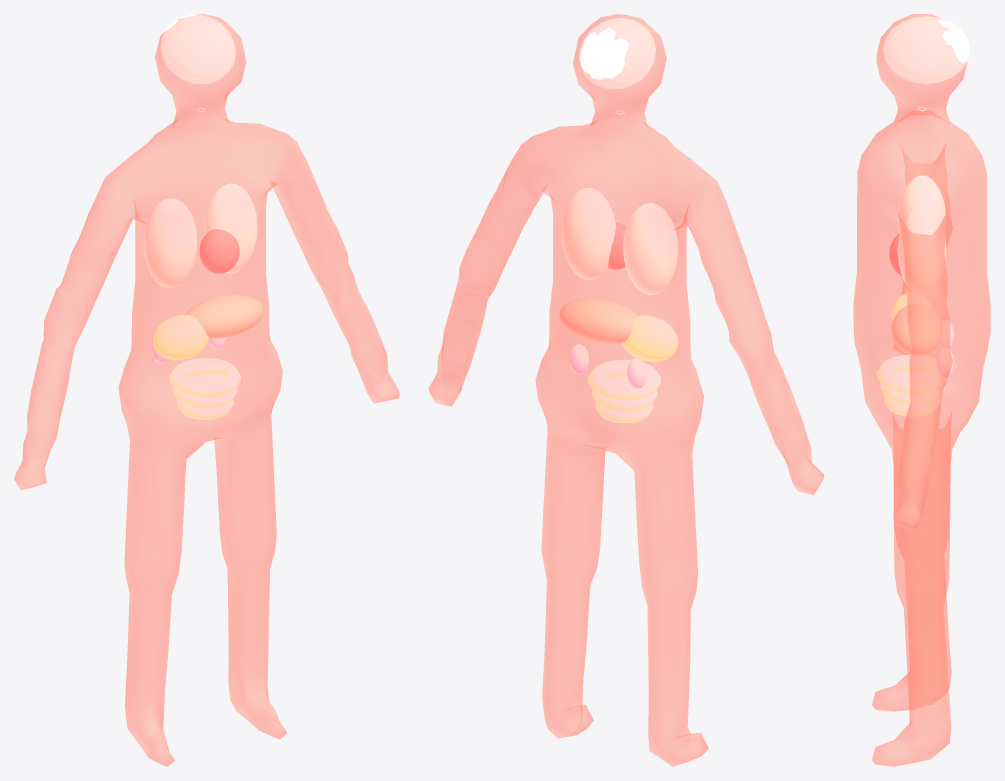
File: human_body.glb
3 views of the same model, side by side, from view 1: azimuth 30°, elevation 25°; view 2: azimuth 150°, elevation 25°; view 3: azimuth 270°, elevation 25° (orthographic). The views are drawn at different scales.
Visible parts, largest first — view 1: Human_Body, Organ_Lungs, Organ_Brain, Organ_Intestines, Organ_Liver, Organ_Stomach, Organ_Heart; view 2: Human_Body, Organ_Lungs, Organ_Brain, Organ_Intestines, Organ_Liver, Organ_Stomach, Organ_Kidneys; view 3: Human_Body, Organ_Lungs, Organ_Brain, Organ_Intestines, Organ_Liver, Organ_Kidneys, Organ_Stomach, Organ_Heart.
Boxes of the visible parts, x1,y1,x2,y2 form: Human_Body: (14,14,399,766); Organ_Lungs: (144,183,257,288); Organ_Brain: (161,14,235,84); Organ_Intestines: (169,358,240,419); Organ_Liver: (185,294,264,338); Organ_Stomach: (153,314,208,360); Organ_Heart: (199,229,239,273); Human_Body: (428,14,824,766); Organ_Lungs: (561,187,677,295); Organ_Brain: (579,18,655,89); Organ_Intestines: (588,359,660,423); Organ_Liver: (559,298,638,343); Organ_Stomach: (622,315,678,362); Organ_Kidneys: (569,344,646,388); Human_Body: (853,14,990,766); Organ_Lungs: (897,175,946,294); Organ_Brain: (883,16,969,83); Organ_Intestines: (877,354,947,416); Organ_Liver: (891,304,942,354); Organ_Kidneys: (936,320,954,377); Organ_Stomach: (892,292,930,319); Organ_Heart: (889,234,901,275).
Bounding box in the file's own units: 0.9531 × 1.71 × 0.296.
